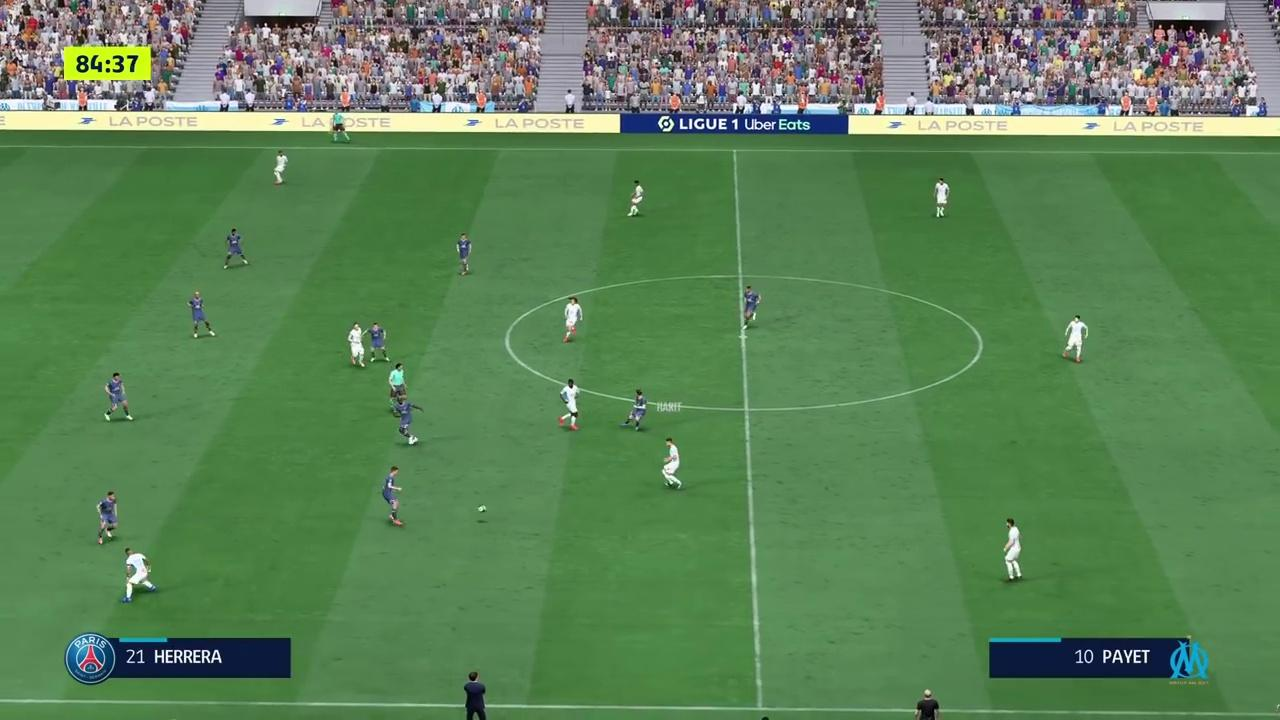timestamp: (65, 48, 152, 78)
